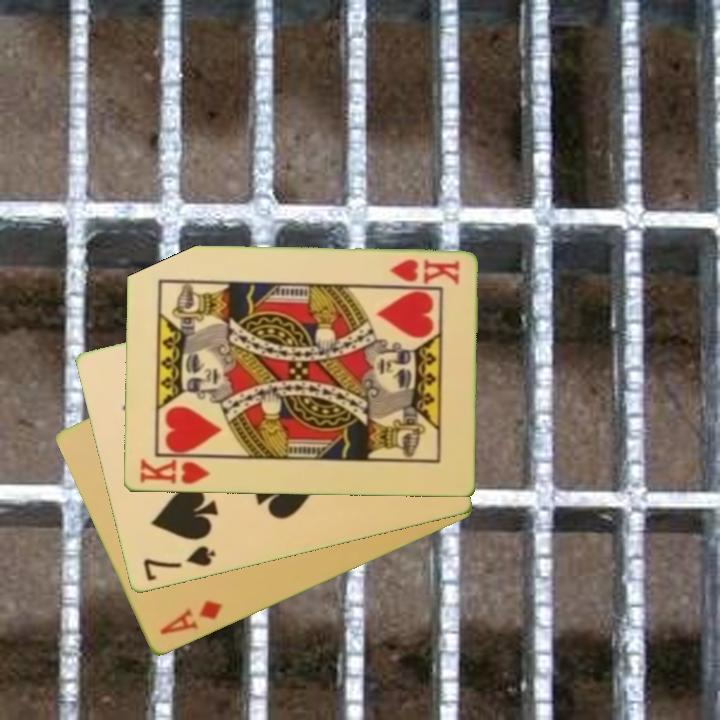7s: (139, 542, 218, 585)
Ad: (155, 597, 225, 639)
Kh: (136, 454, 217, 487), (385, 256, 462, 288)
